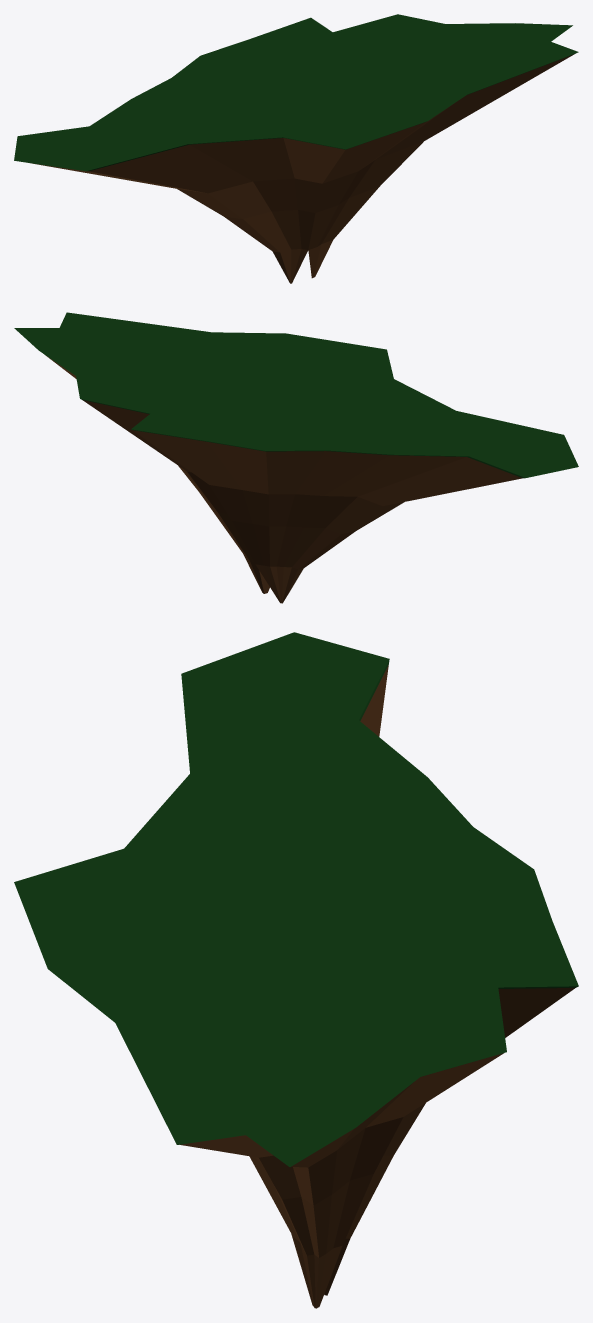
The model's file is island 4.glb.
The picture shows the model from 3 angles, top to bottom: view 1: azimuth 30°, elevation 25°; view 2: azimuth 150°, elevation 25°; view 3: azimuth 270°, elevation 25°; orthographic projection. The views are drawn at different scales.
Parts seen in each view (by area): view 1: Vert.001, Vert; view 2: Vert.001, Vert; view 3: Vert.001, Vert.
Part boxes in pixels (x1,y1,x2,y2): Vert.001: (14, 14, 578, 171); Vert: (32, 54, 574, 283); Vert.001: (14, 312, 578, 478); Vert: (45, 355, 522, 603); Vert.001: (14, 632, 578, 1166); Vert: (179, 665, 574, 1308).
Size of the model in its own units: 14.27 by 4.84 by 6.37.
